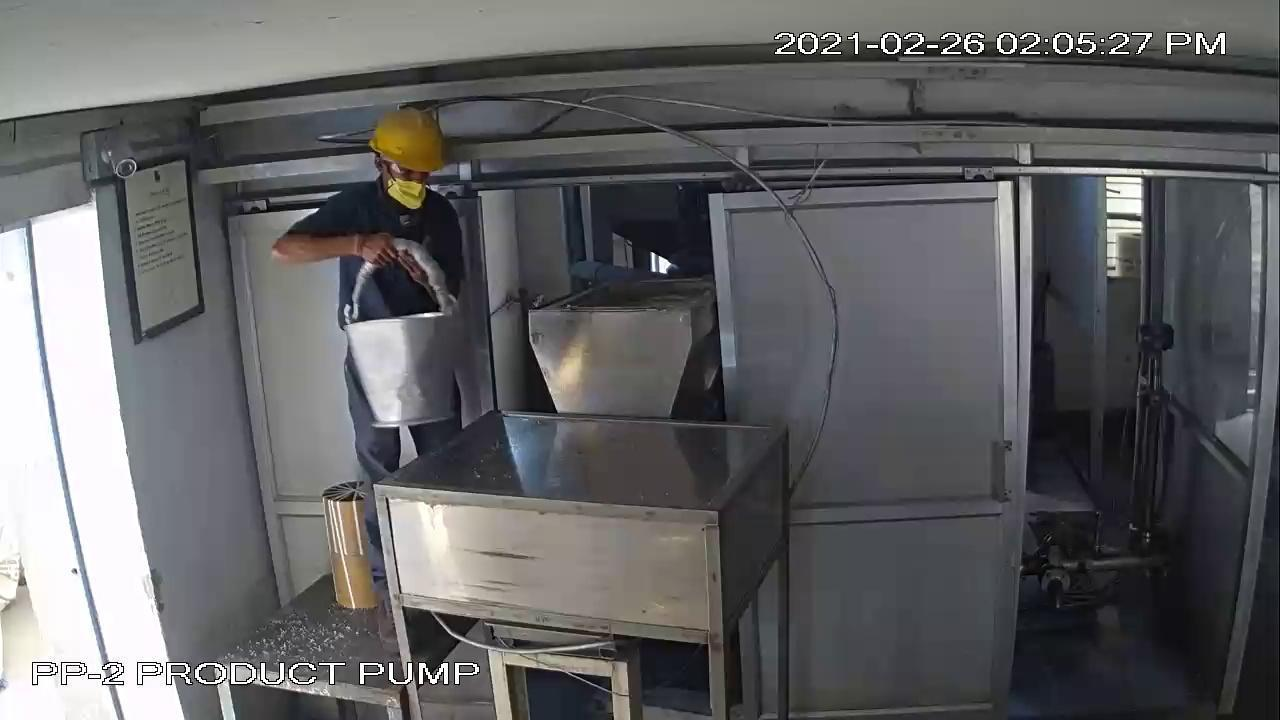helmet: (369, 97, 454, 194)
